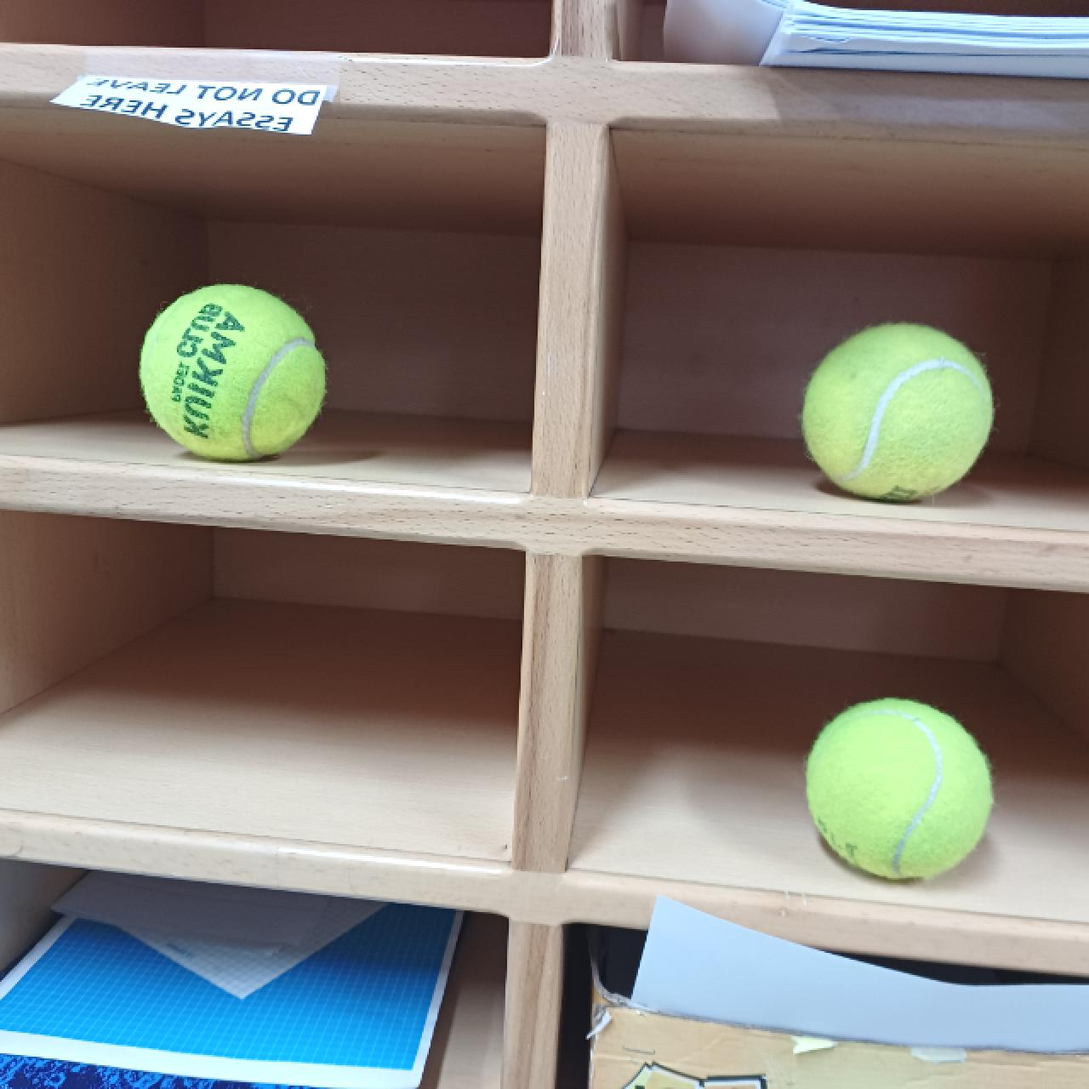tennis-ball: (795, 314, 999, 504), (801, 699, 996, 888), (134, 280, 331, 464)
